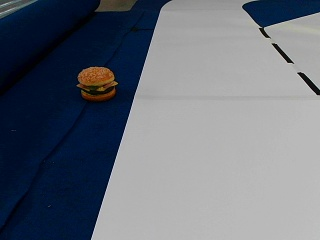burger: (76, 65, 116, 100)
